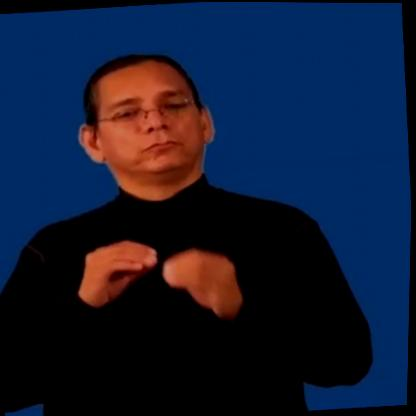Fix: (59, 205, 260, 342)
